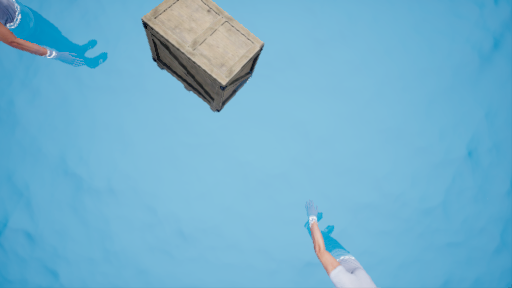person: (304, 204, 376, 288)
